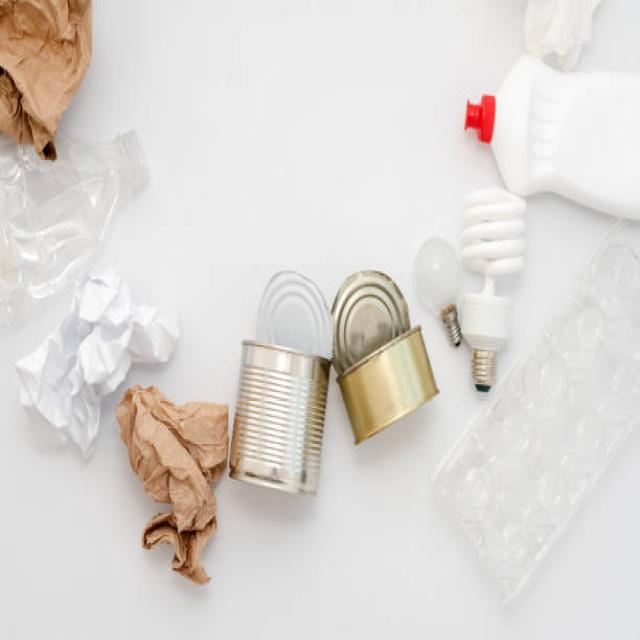glass: (463, 183, 525, 281)
metal: (236, 270, 436, 491)
paper: (36, 280, 225, 550)
